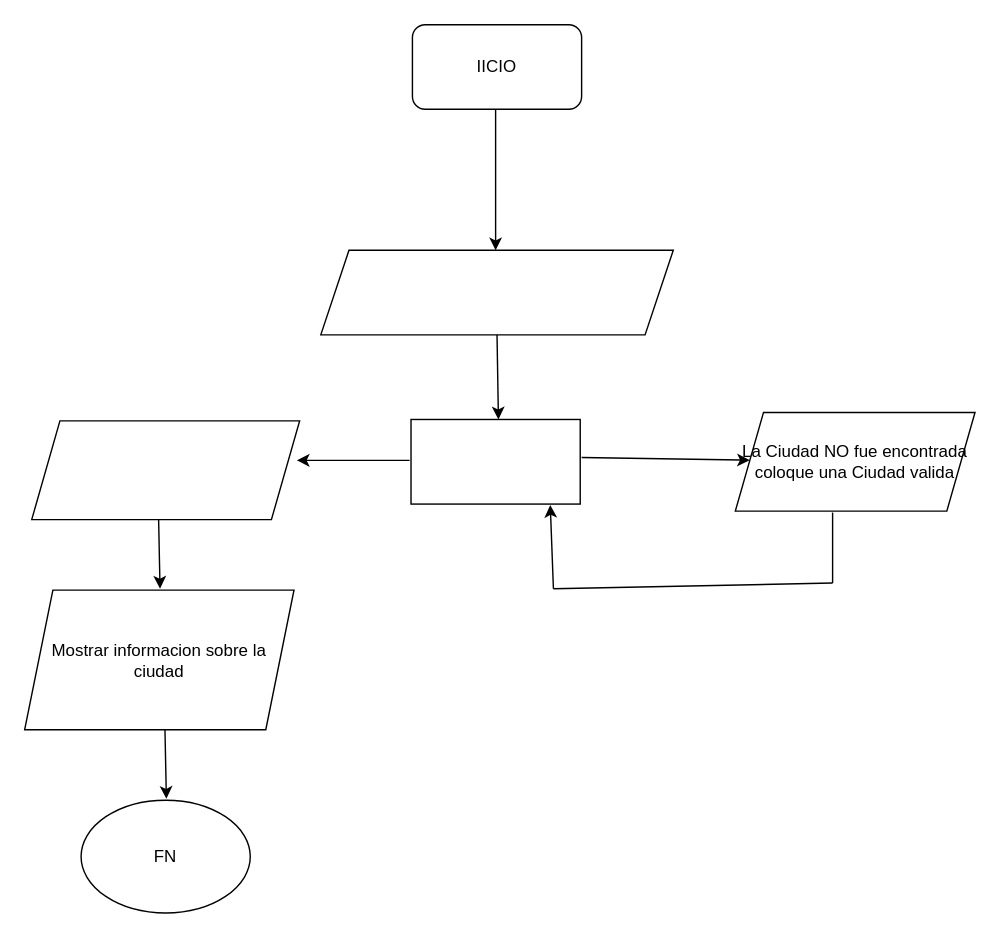
Image size: 1000x938. Some labels were removed from this diagram. The centre of each missing label's shape, as x and y in pixels:
INGRESE NOMBRE DE LA CIUDAD: point 496,292
La Ciudad fue encontrada con exito: point 165,469
